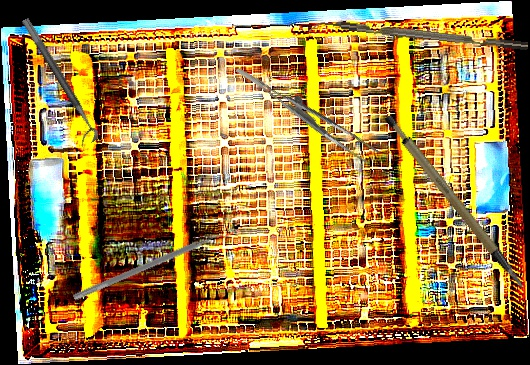Chopper: (308, 15, 529, 62)
Fixation Ring: (10, 17, 102, 148)
Scalpel Handle: (381, 99, 526, 307)
Spatula Surgical: (72, 226, 231, 308)
Tissue Forceps: (235, 46, 380, 177)
